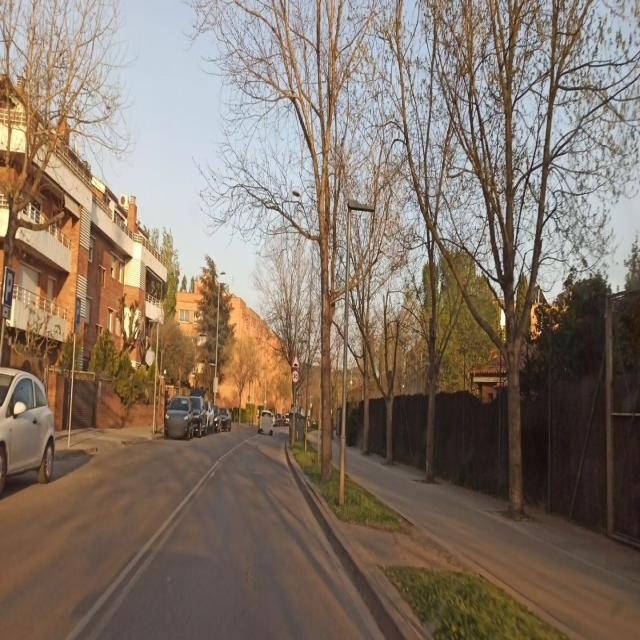car: (0, 367, 56, 503), (164, 396, 193, 439), (190, 394, 207, 436), (258, 410, 274, 436), (219, 406, 232, 432), (205, 402, 215, 432)
